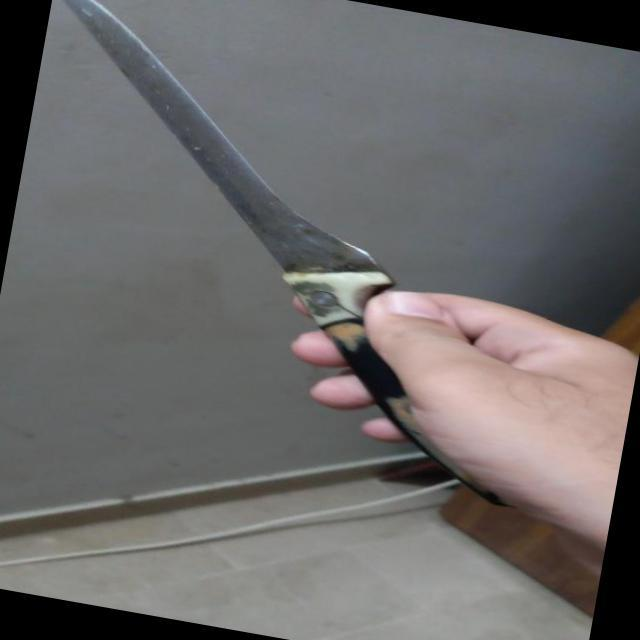Knife: (0, 0, 549, 486)
